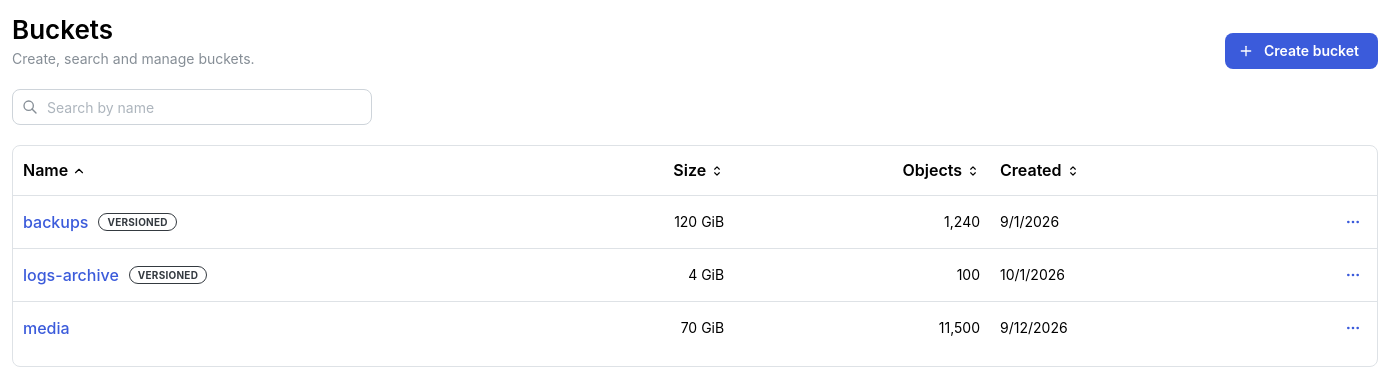
Test: BucketsPage (TD-U-03) › filters by name and tells when nothing matches
The width and height of the screenshot is (1390, 384).
Check: the link "media" is shown, box [23,316,70,341]
Step 1. Type "back" into the field named "Search buckets" → (192, 107), box [12,89,372,125]
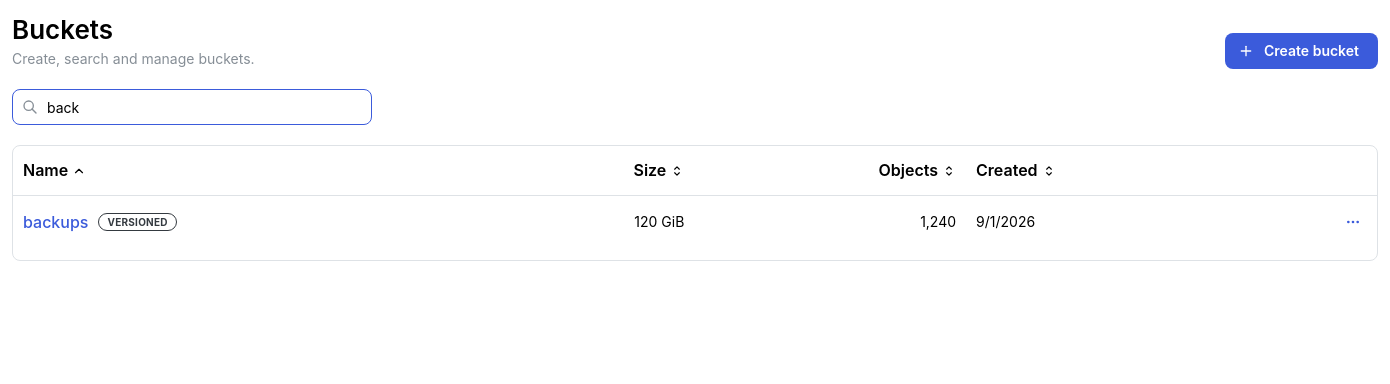
Step 2. Type "zzz" into the field named "Search buckets" → (192, 107), box [12,89,372,125]
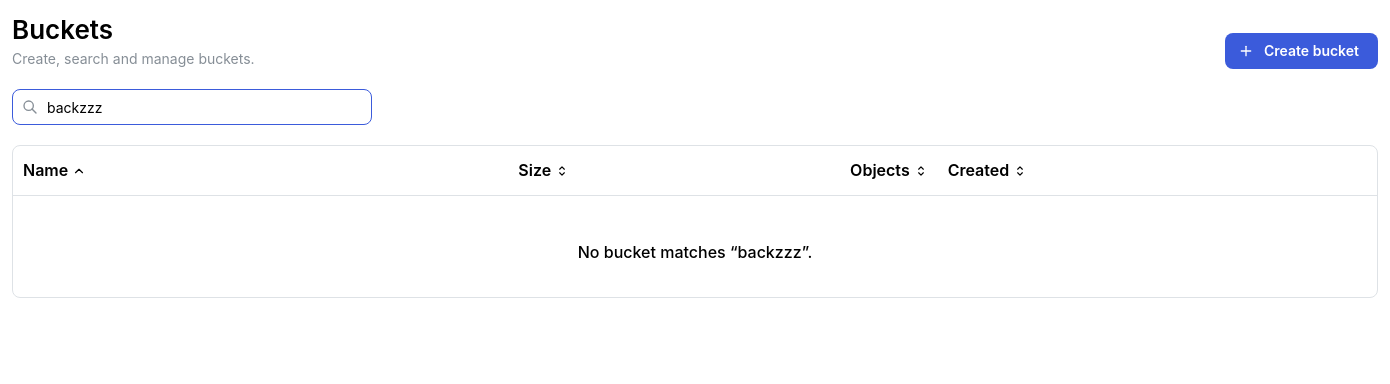
Check: the text "No bucket matches “backzzz”." is shown, box [578,240,812,265]
